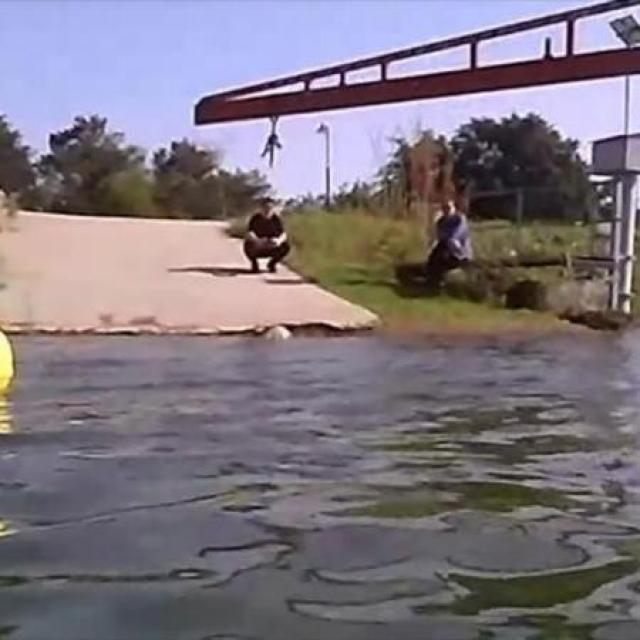buoy: (0, 319, 18, 388)
